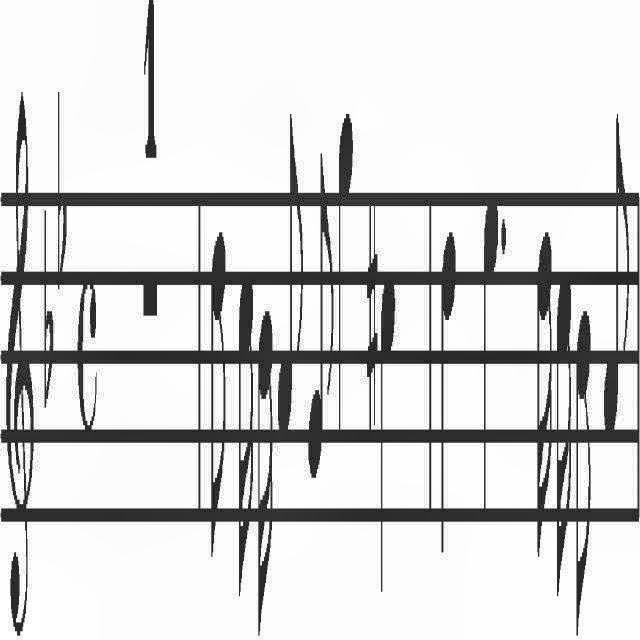Bass-clef: (5, 0, 39, 640)
Bemol: (54, 45, 72, 299), (38, 190, 56, 414)
Diez: (361, 118, 379, 474)
Eighth-note: (600, 100, 632, 442), (305, 125, 335, 485), (206, 178, 230, 622), (278, 104, 302, 470), (574, 278, 596, 640)
Quarter-note: (435, 184, 457, 640), (476, 181, 499, 555), (378, 258, 398, 574), (338, 66, 354, 458)
Sixteenth-note: (554, 237, 576, 628), (534, 185, 554, 578), (238, 236, 255, 620), (258, 274, 274, 640)
